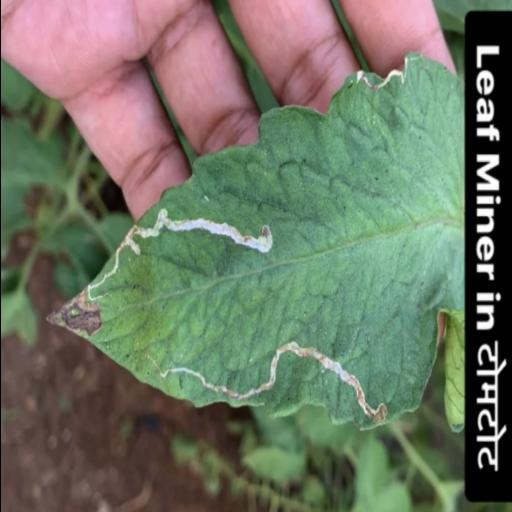disease_tomato: (46, 54, 466, 436)
